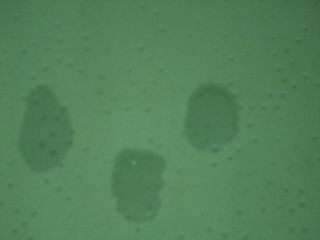Water_detected: (117, 153, 163, 213), (182, 98, 230, 143), (23, 115, 62, 163)
